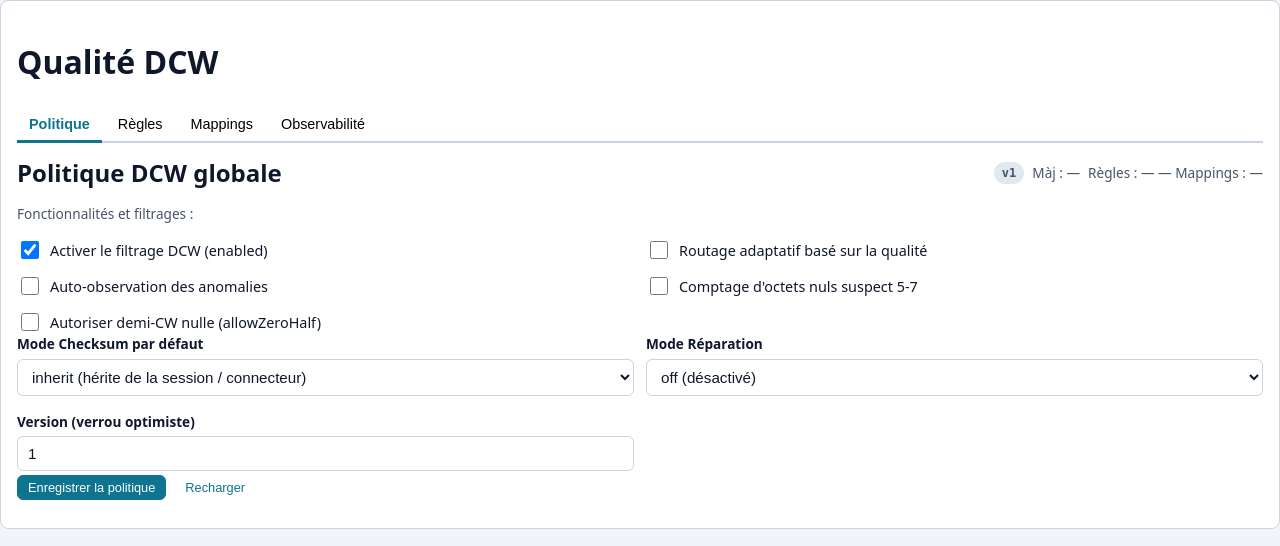
Test: routes admin › DcwPage rend un mapping global CAID:Provider (sourceSid=0, targetSid=0)
Click the tab "Mappings": (222, 125) [179, 108, 265, 143]
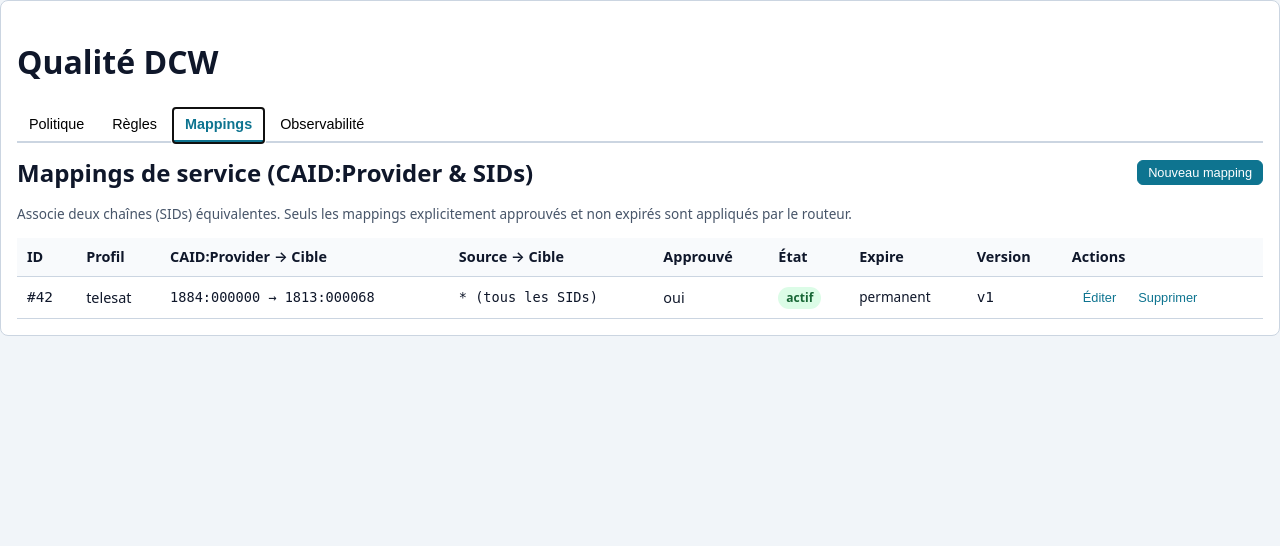
Expected: the heading "Mappings de service (CAID:Provider & SIDs)" is shown, [17, 155, 533, 191]
Expected: the text "1884:000000 → 1813:000068" is shown, [160, 277, 449, 319]
Expected: the text "* (tous les SIDs)" is shown, [449, 277, 653, 319]
